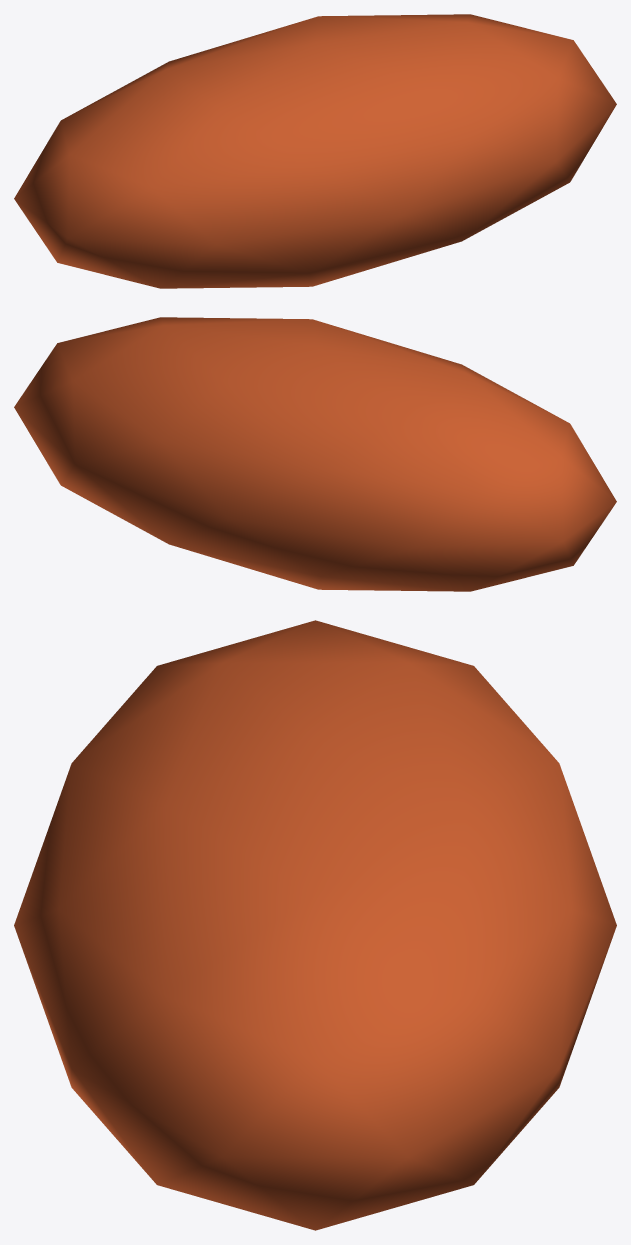
File: CenouraSemente.fbx
3 renders of one model, top to bottom at view 1: azimuth 30°, elevation 25°; view 2: azimuth 150°, elevation 25°; view 3: azimuth 270°, elevation 25°, orthographic. The views are drawn at different scales.
Visible parts, largest first — view 1: CenouraSemente; view 2: CenouraSemente; view 3: CenouraSemente.
Part boxes in pixels (box(x1,y1,x2,y2)): CenouraSemente: box(14, 14, 616, 288); CenouraSemente: box(14, 317, 616, 591); CenouraSemente: box(14, 620, 616, 1230).
Bounding box in the file's own units: 2.02 × 0.7581 × 1.11.
